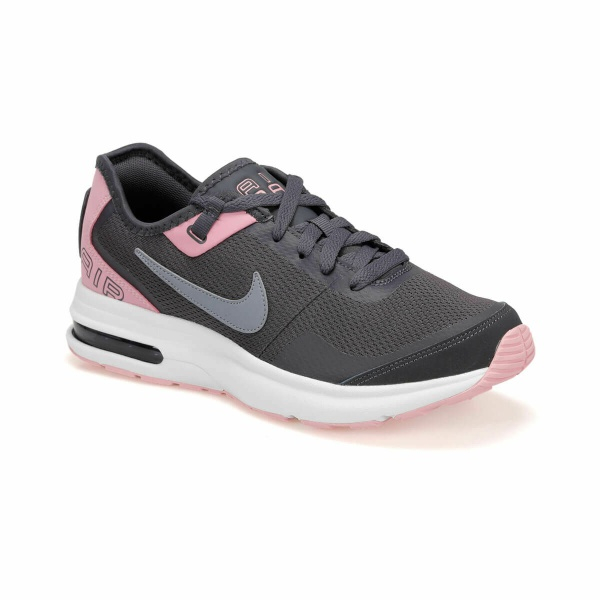nike: (132, 241, 275, 339)
